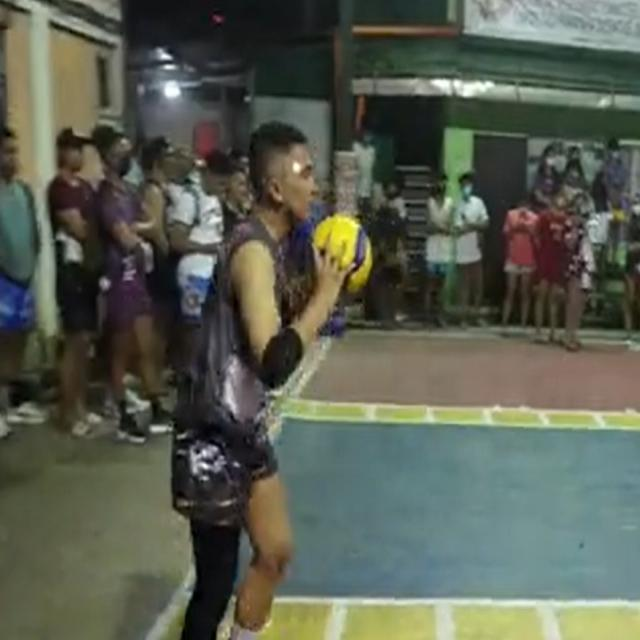volleyball: (311, 214, 373, 296)
